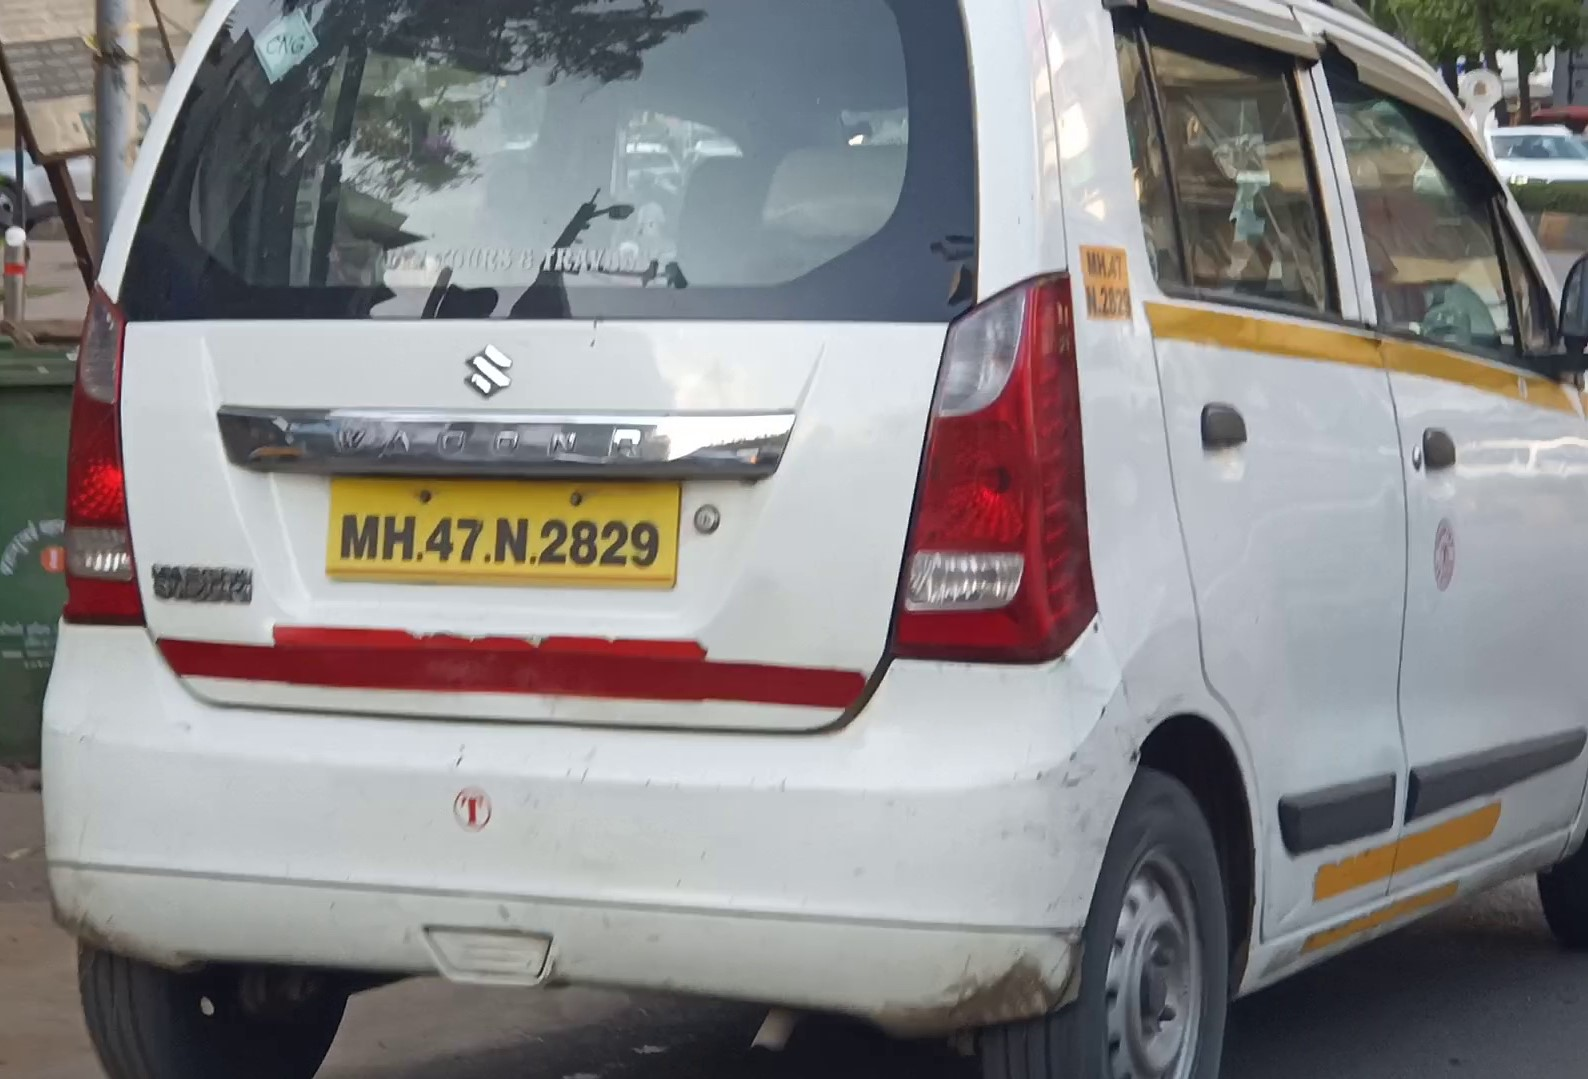MH47N2829: (328, 480, 683, 585)
